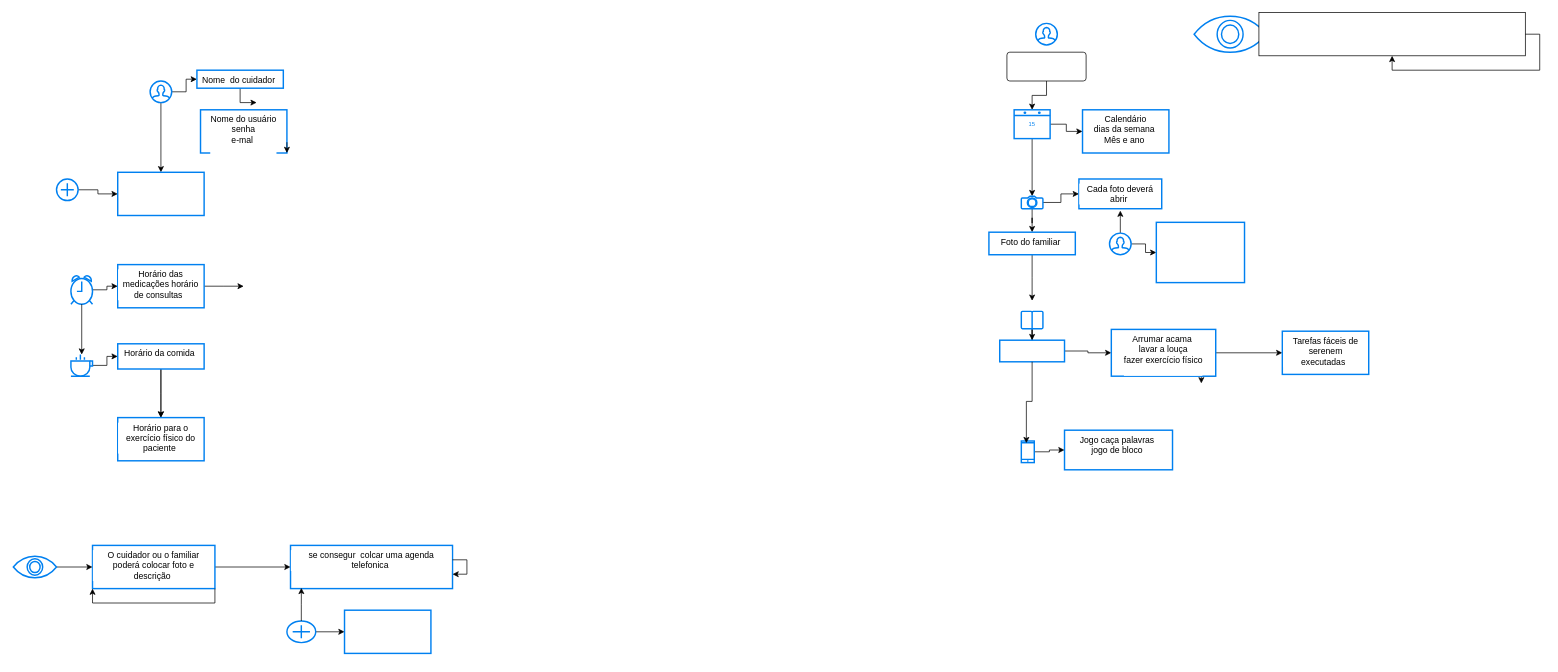
This 1558x672 diagram has some shape labels left out. Here are the shapes that lost their labels. From the top down, the box of each, then its label:
(1258, 12, 1525, 56): O paciente não deverá ter autonomia para fazer alteração nenhuma
(1006, 51, 1086, 81): Nome do paciente
(117, 171, 204, 216): Adicionar mais de um paciente
(1155, 221, 1245, 283): Nome do familiar data de nascimento idade Descrição sobre apessoa
(999, 339, 1065, 362): Tarefas
(343, 609, 431, 654): mais de uma pessoa
